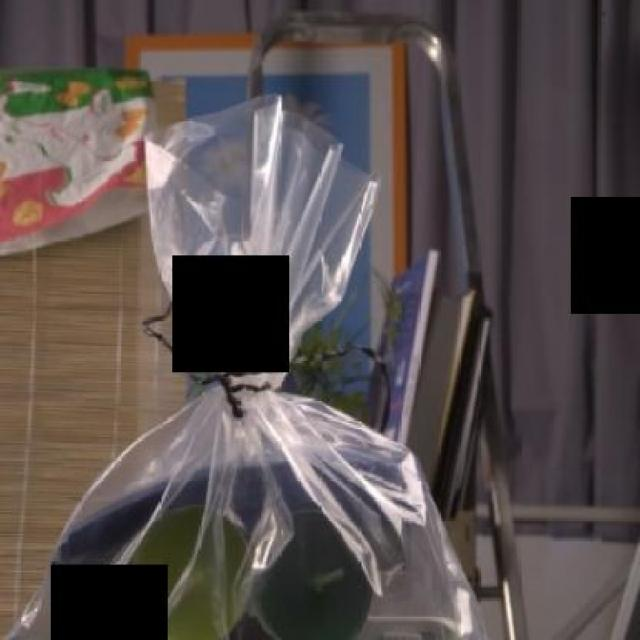plastic bag: (0, 77, 491, 637)
